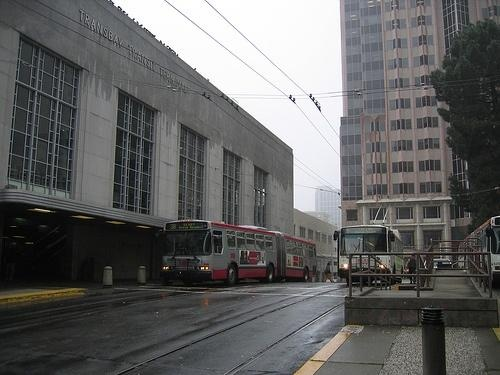bus: (155, 220, 318, 285), (333, 225, 408, 284), (458, 219, 500, 284)
